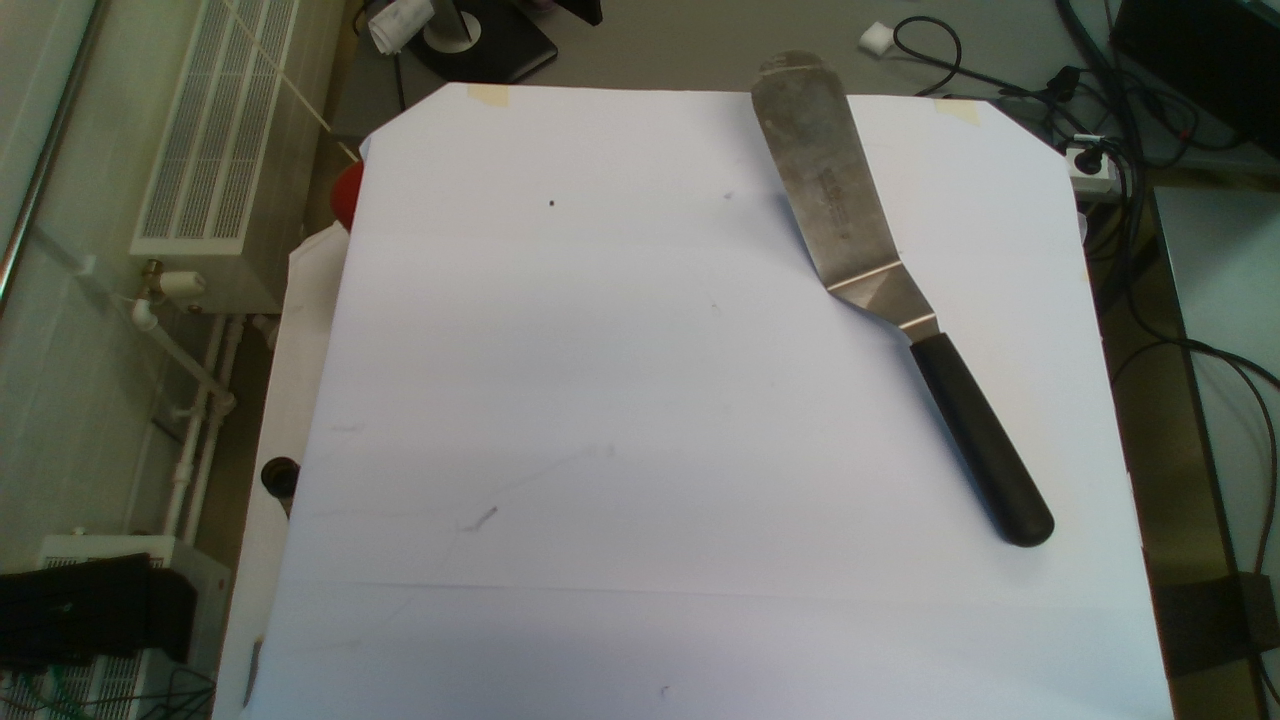spatula: (748, 49, 1058, 548)
